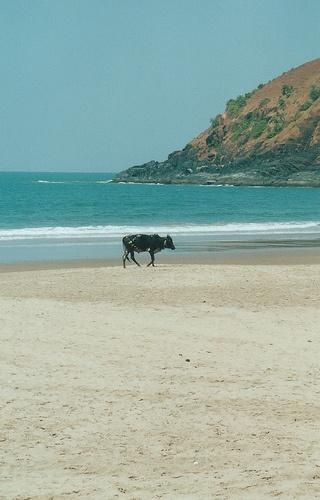cow: (121, 232, 176, 270)
